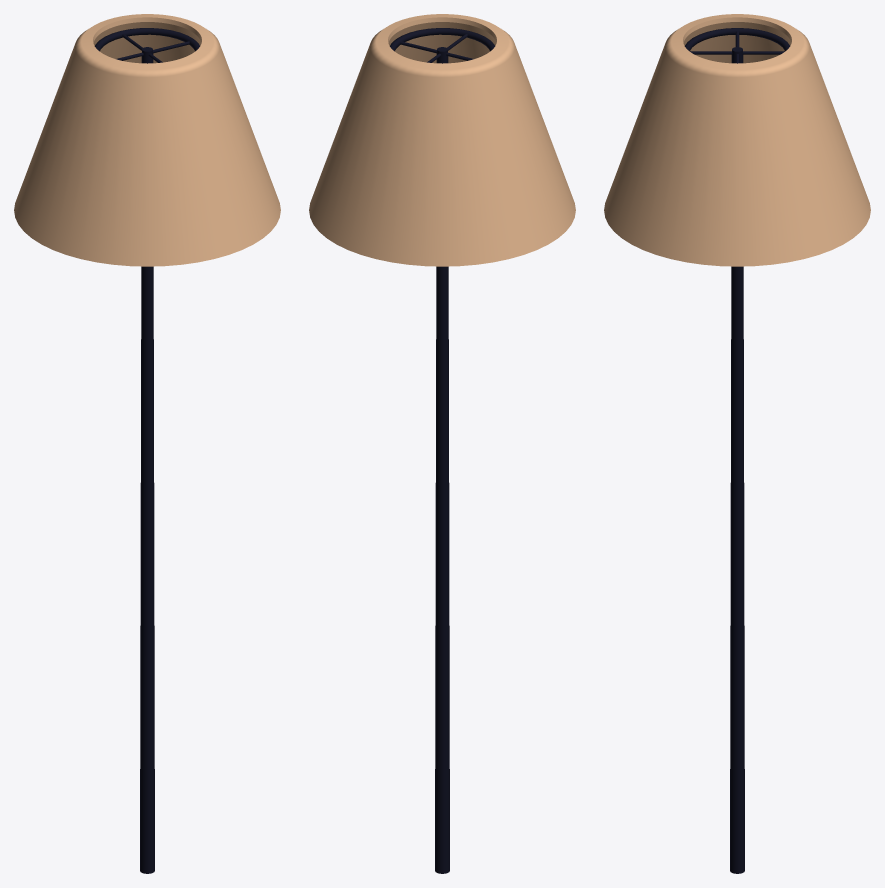
The model's file is FloorLamp.fbx.
3 views of the same model, side by side, from view 1: azimuth 30°, elevation 25°; view 2: azimuth 150°, elevation 25°; view 3: azimuth 270°, elevation 25° (orthographic).
Visible parts, largest first — view 1: FloorLamp; view 2: FloorLamp; view 3: FloorLamp.
Boxes of the visible parts, x1,y1,x2,y2 form: FloorLamp: [14, 14, 280, 873]; FloorLamp: [309, 14, 575, 873]; FloorLamp: [604, 14, 870, 873].
Bounding box in the file's own units: 2.39 × 8.21 × 2.39.
